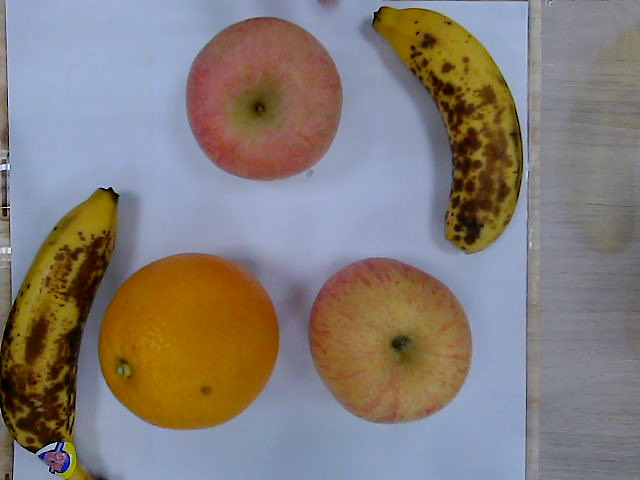fresh_apple: (308, 260, 474, 425), (185, 19, 344, 178)
fresh_orange: (101, 252, 284, 430)
rotten_banana: (370, 8, 524, 254), (1, 184, 122, 480)
